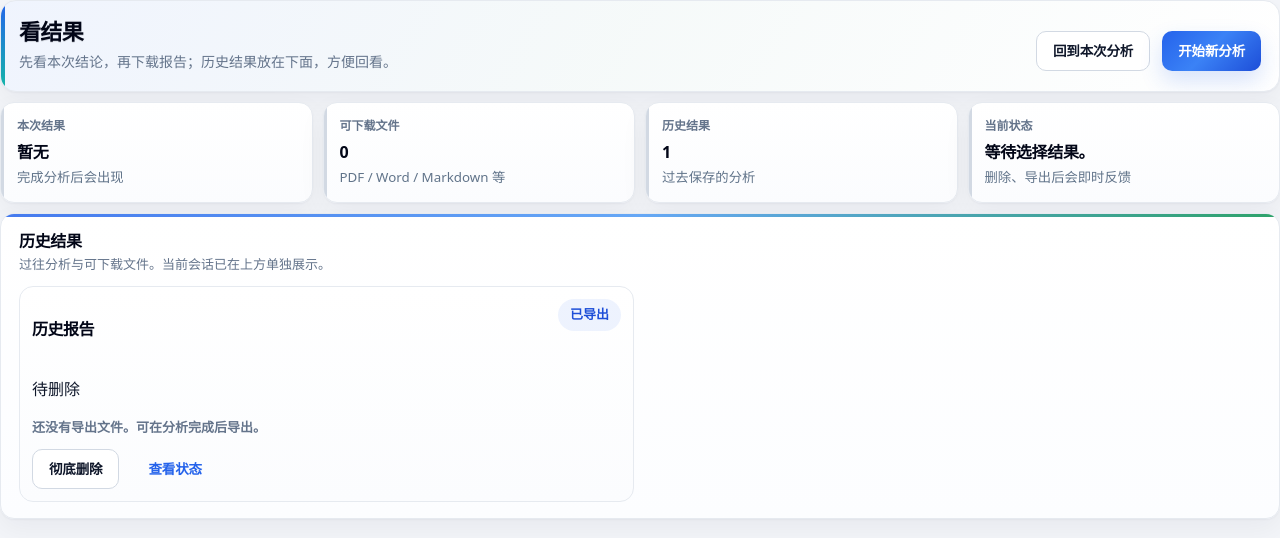
Scenario: reports page › deletes a saved report from the report center
Expected: the text "历史报告" is shown, 32,318 -> 94,340
Click the button "彻底删除": (76, 469) 32,449 -> 120,489
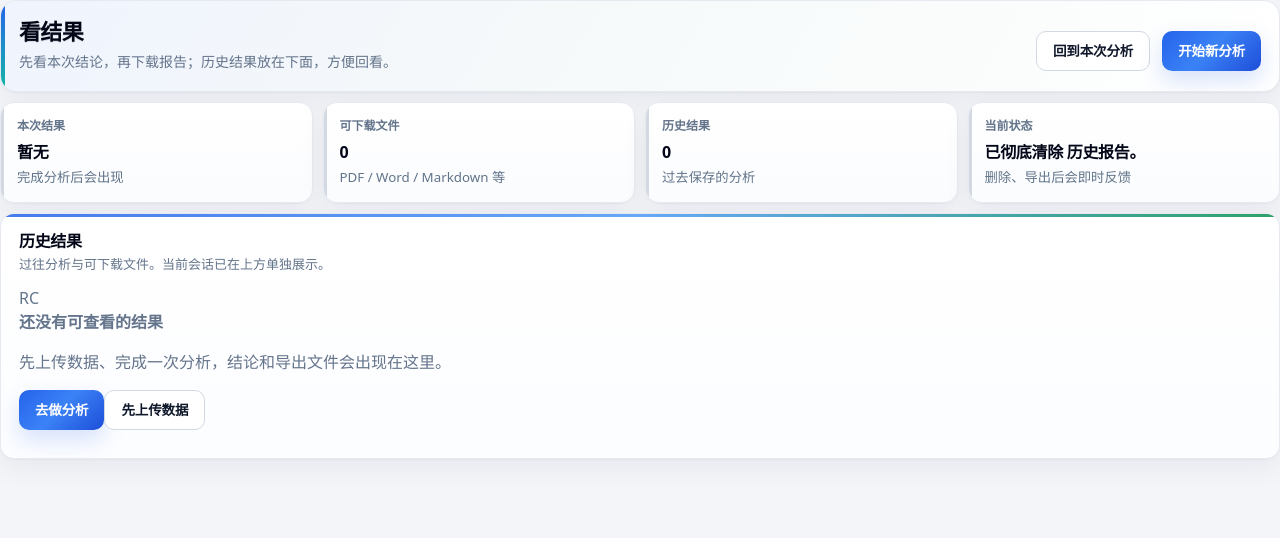
Expected: the text "已彻底清除 历史报告。" is shown, 984,141 -> 1145,163
